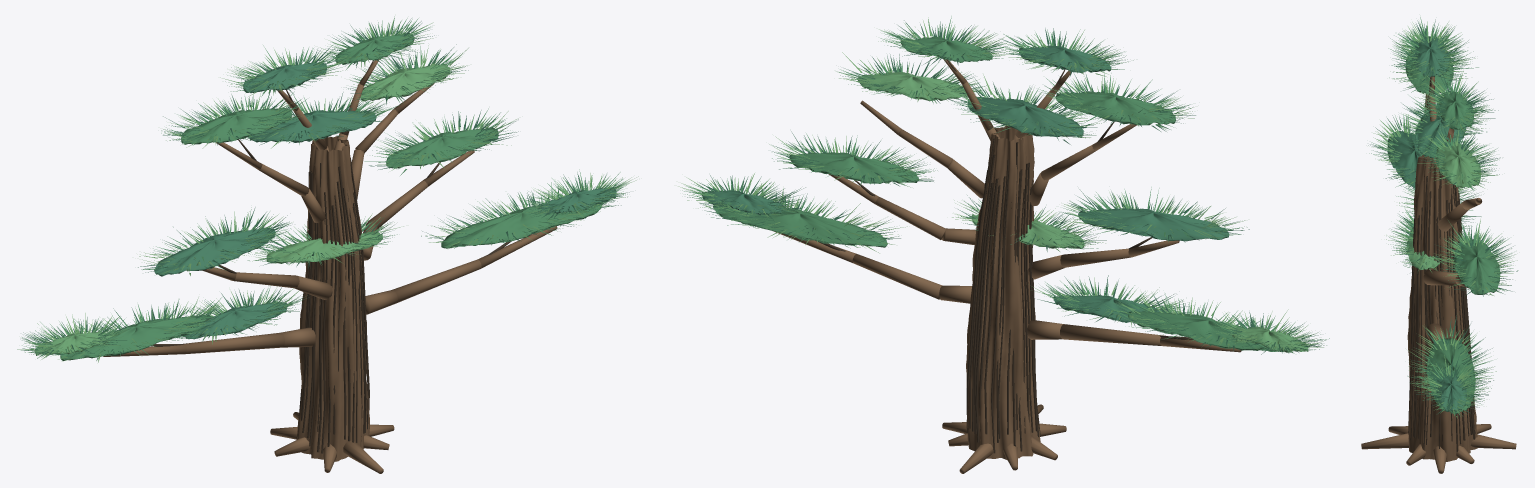
Rendered from japanese_cloud_pine.glb.
3 views of the same model, side by side, from view 1: azimuth 30°, elevation 25°; view 2: azimuth 150°, elevation 25°; view 3: azimuth 270°, elevation 25° (orthographic). The views are drawn at different scales.
Visible parts, largest first — view 1: JapaneseCloudPineTrunk, LowerRightCloud, MiddleLeftCloud, LowerLeftCloud, UpperCenterCloud, UpperLeftCloud, MiddleRightCloud, MiddleLeftCloud_NeedleFringe, MiddleRightCloud_NeedleFringe, UpperLeftCloud_NeedleFringe, TopLeftCloud_NeedleFringe, LowerRightCloud_NeedleFringe (+20 smaller); view 2: JapaneseCloudPineTrunk, LowerRightCloud, MiddleLeftCloud, UpperCenterCloud, UpperLeftCloud, MiddleRightCloud, LowerLeftCloud, MiddleLeftCloud_NeedleFringe, MiddleRightCloud_NeedleFringe, UpperLeftCloud_NeedleFringe, UpperRightCloud, TopRightCloud_NeedleFringe (+23 smaller); view 3: JapaneseCloudPineTrunk, MiddleRightCloud_NeedleFringe, LowerRightCloud_NeedleFringe, MiddleRightCloud, UpperRightCloud_NeedleFringe, TopLeftCloud_NeedleFringe, FarRightSmallCloud_NeedleFringe, TopRightCloud_NeedleFringe, LowerRightCloud, UpperRightCloud, MiddleLeftCloud, UpperLeftCloud_NeedleFringe (+36 smaller).
Boxes of the visible parts, x1,y1,x2,y2 form: JapaneseCloudPineTrunk: [297, 136, 369, 461]; LowerRightCloud: [441, 202, 602, 248]; MiddleLeftCloud: [154, 227, 275, 276]; LowerLeftCloud: [60, 315, 211, 360]; UpperCenterCloud: [249, 110, 376, 142]; UpperLeftCloud: [181, 107, 291, 144]; MiddleRightCloud: [386, 127, 498, 168]; MiddleLeftCloud_NeedleFringe: [138, 207, 291, 275]; MiddleRightCloud_NeedleFringe: [364, 108, 518, 175]; UpperLeftCloud_NeedleFringe: [161, 91, 306, 148]; TopLeftCloud_NeedleFringe: [220, 45, 349, 97]; LowerRightCloud_NeedleFringe: [421, 182, 623, 248]; JapaneseCloudPineTrunk: [966, 125, 1040, 460]; LowerRightCloud: [713, 206, 887, 247]; MiddleLeftCloud: [1078, 208, 1229, 241]; UpperCenterCloud: [967, 97, 1083, 137]; UpperLeftCloud: [1056, 91, 1175, 125]; MiddleRightCloud: [789, 152, 918, 183]; LowerLeftCloud: [1128, 310, 1280, 351]; MiddleLeftCloud_NeedleFringe: [1060, 187, 1249, 242]; MiddleRightCloud_NeedleFringe: [769, 131, 937, 187]; UpperLeftCloud_NeedleFringe: [1040, 73, 1195, 131]; UpperRightCloud: [857, 72, 967, 101]; TopRightCloud_NeedleFringe: [878, 16, 1014, 65]; JapaneseCloudPineTrunk: [1407, 155, 1477, 461]; MiddleRightCloud_NeedleFringe: [1436, 219, 1518, 296]; LowerRightCloud_NeedleFringe: [1407, 313, 1496, 418]; MiddleRightCloud: [1454, 239, 1500, 294]; UpperRightCloud_NeedleFringe: [1416, 125, 1500, 191]; TopLeftCloud_NeedleFringe: [1393, 17, 1470, 80]; FarRightSmallCloud_NeedleFringe: [1412, 355, 1491, 416]; TopRightCloud_NeedleFringe: [1415, 71, 1498, 134]; LowerRightCloud: [1427, 338, 1475, 413]; UpperRightCloud: [1436, 142, 1480, 187]; MiddleLeftCloud: [1387, 130, 1422, 188]; UpperLeftCloud_NeedleFringe: [1388, 21, 1478, 92].
Bounding box in the file's own units: 13.41 × 8.15 × 3.08.
